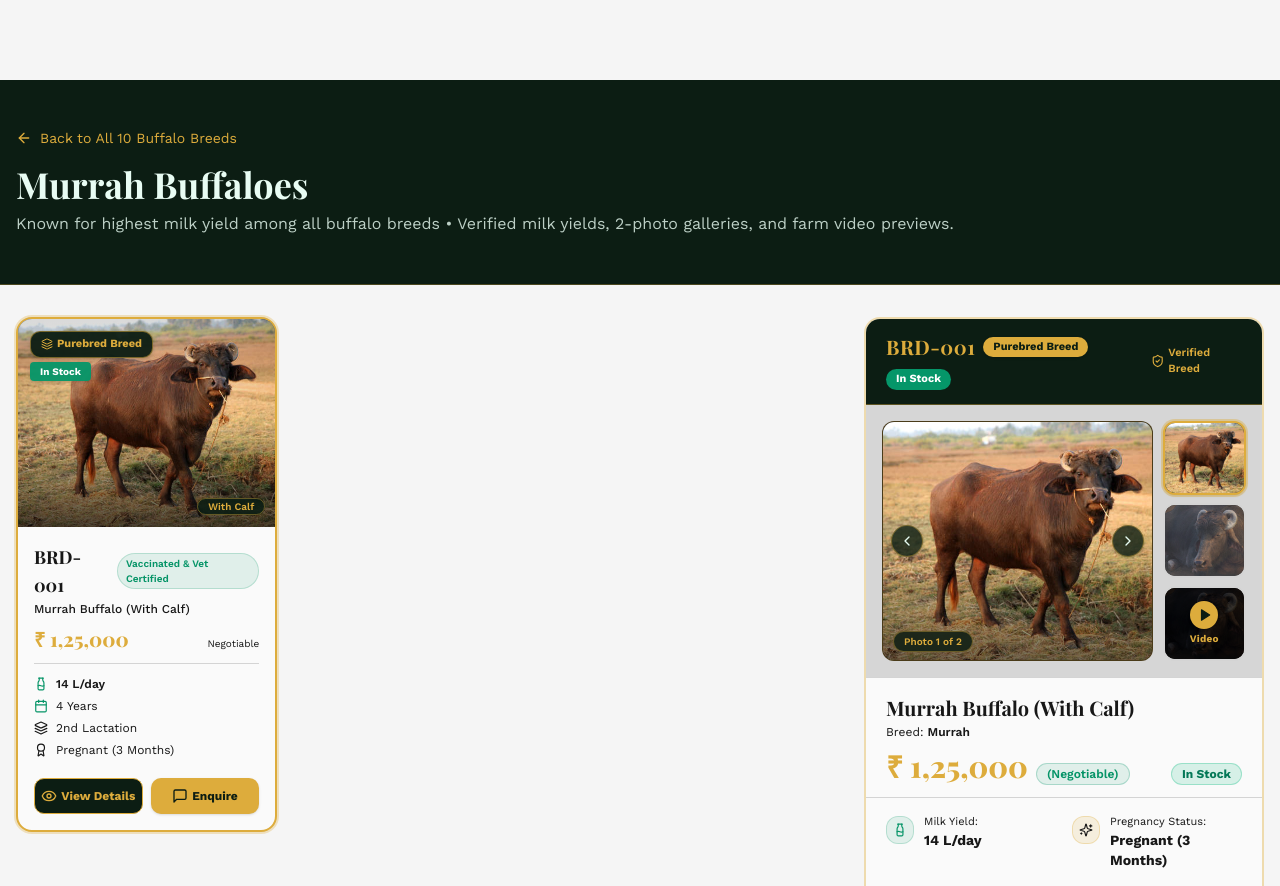
Render checks for AdminPanel, Dashboard, and Core Website Pages › renders BreedDetail page with Left Cards and Right Big Buffalo Detail Card (no 5-sample listings)
Expected: the heading "BRD-001" is shown, [34, 545, 81, 597]
Expected: the text "Photo 1 of 2" is shown, [893, 630, 973, 652]
Click the button named "Next photo".
click(1128, 540)  # box [1112, 524, 1144, 556]
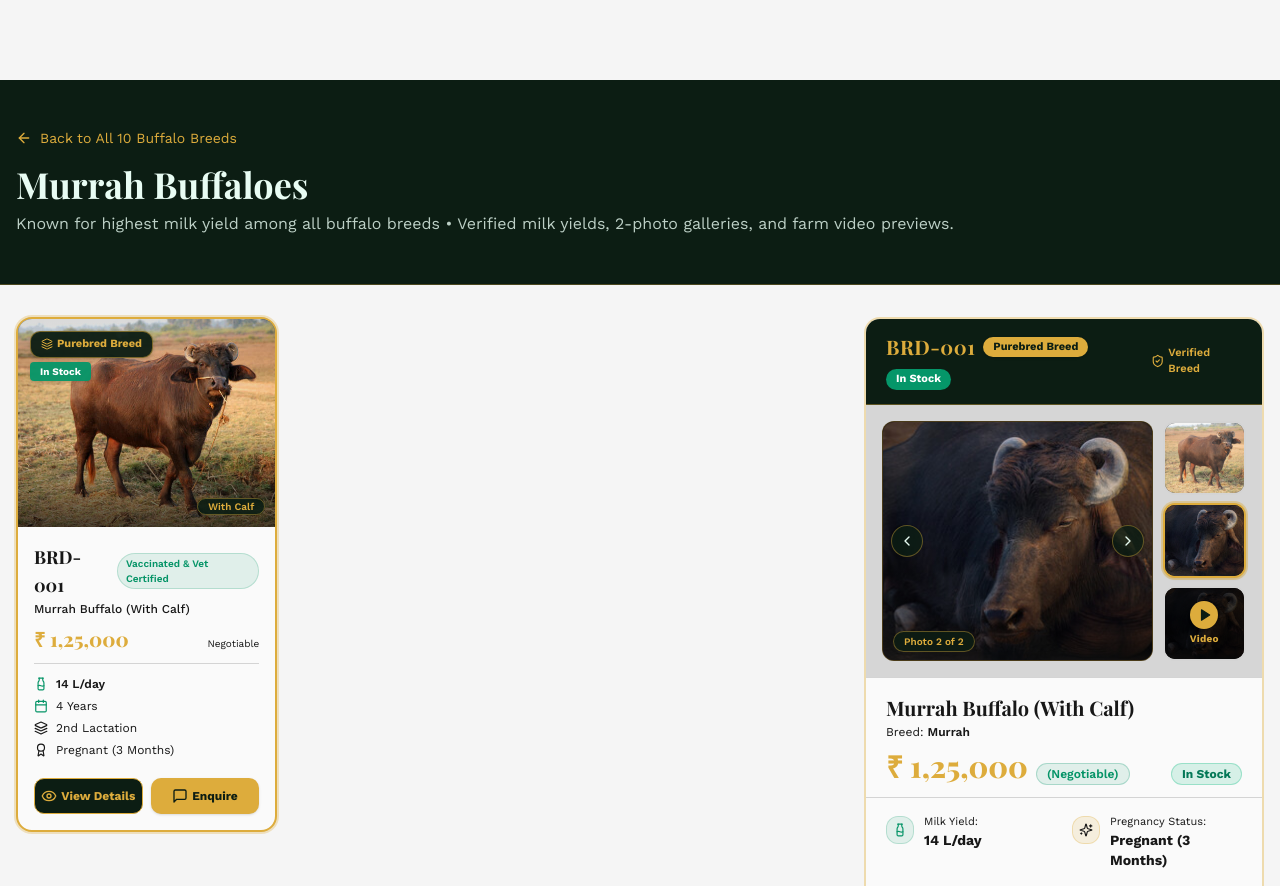
Expected: the text "Photo 2 of 2" is shown, [893, 630, 975, 652]
